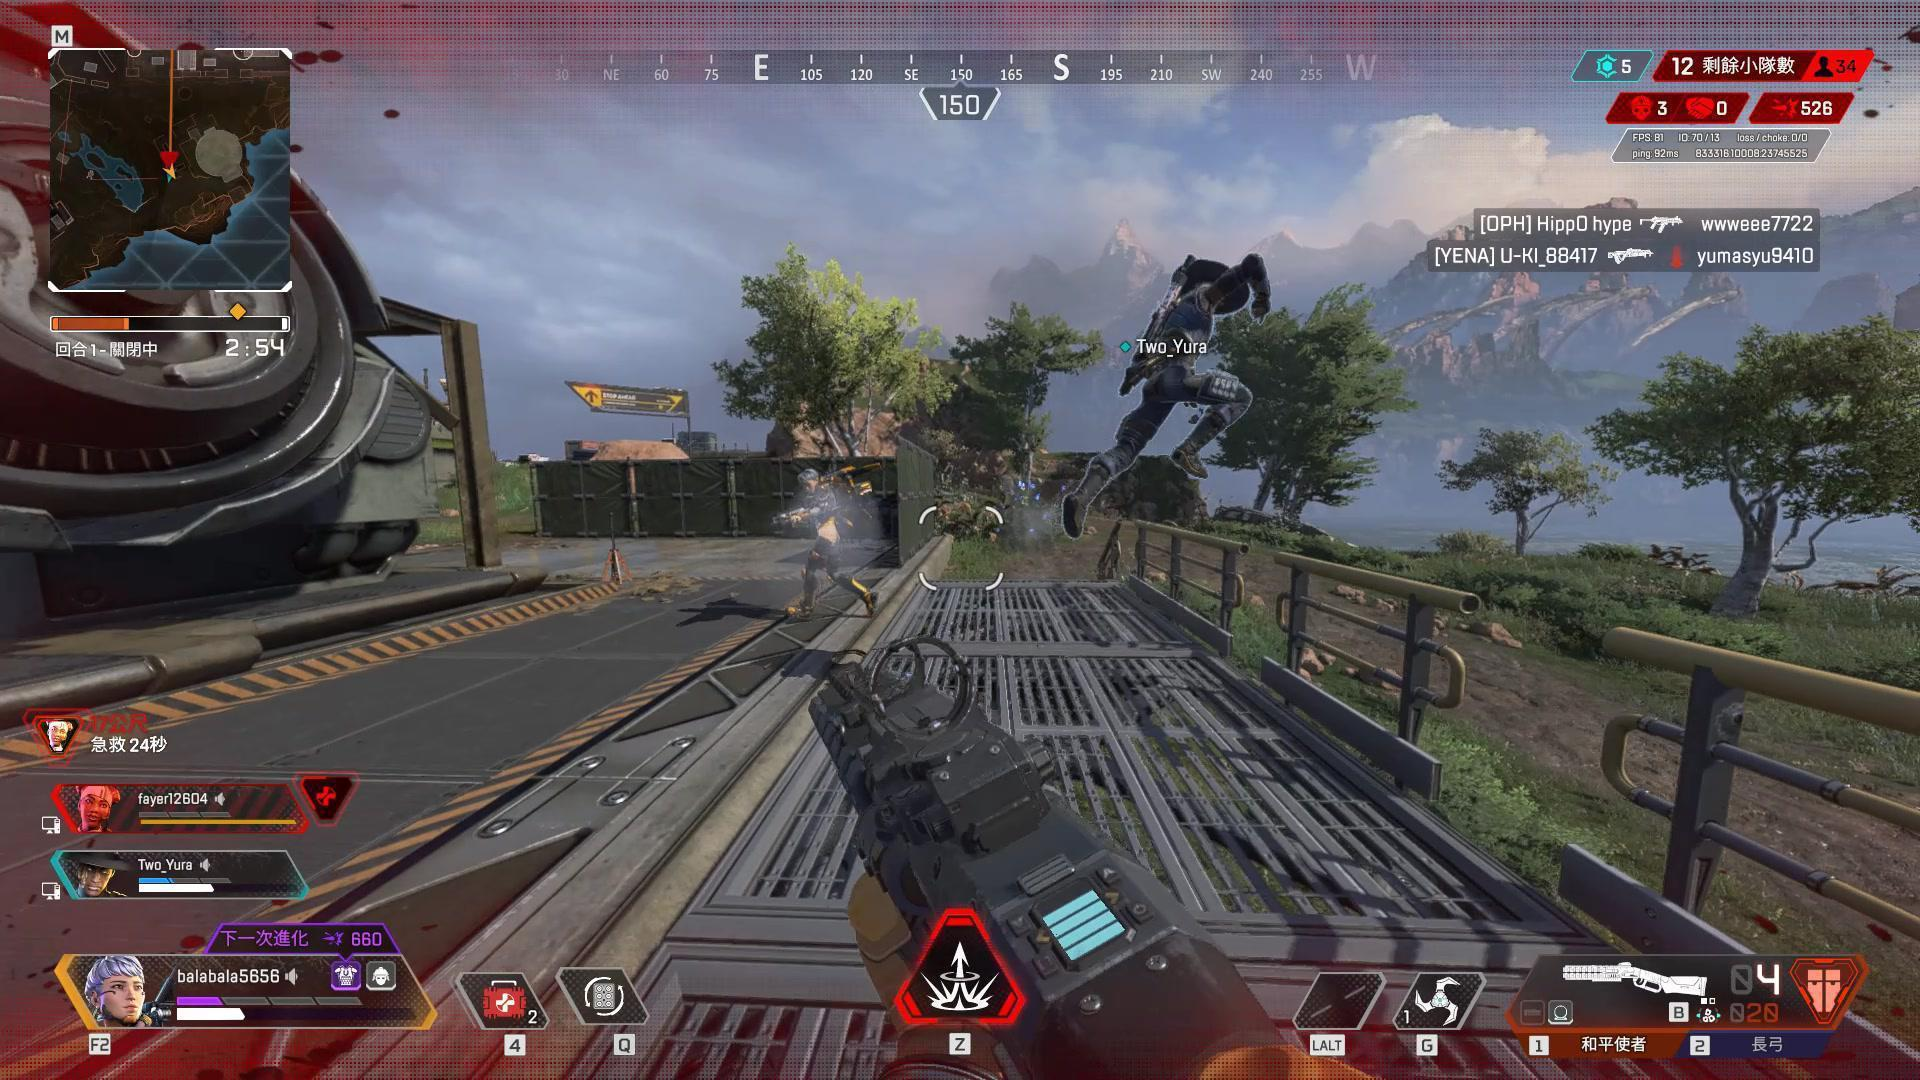avatar: (1115, 258, 1250, 481), (784, 467, 847, 620)
